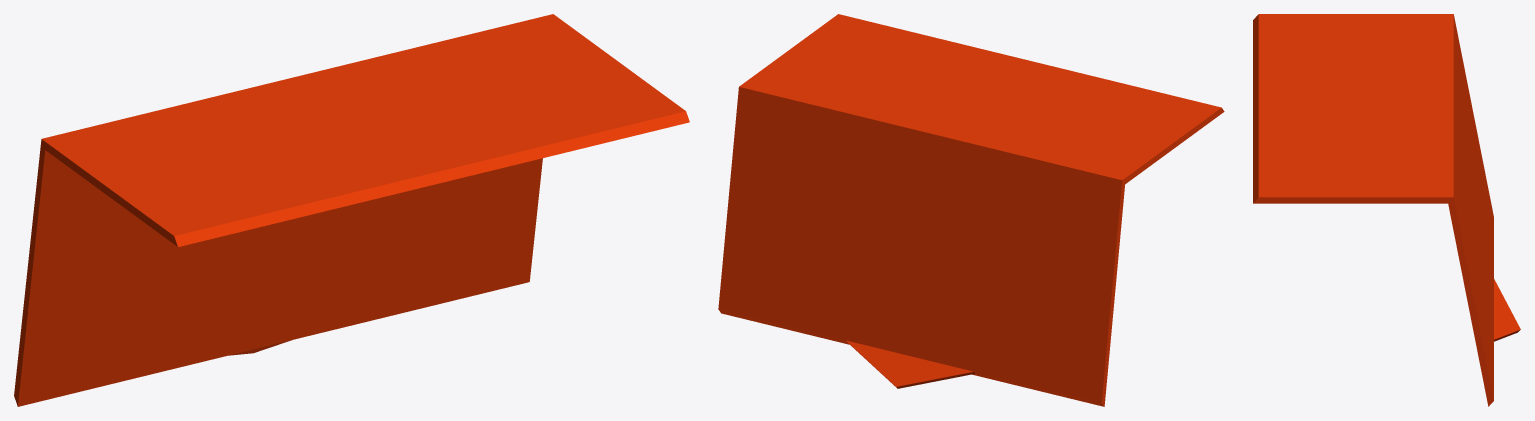
File: Cap.fbx
3 views of the same model, side by side, from view 1: azimuth 30°, elevation 25°; view 2: azimuth 150°, elevation 25°; view 3: azimuth 270°, elevation 25° (orthographic). The views are drawn at different scales.
Visible parts, largest first — view 1: Body.002; view 2: Body.002; view 3: Body.002.
Boxes of the visible parts, <box> form: Body.002: <box>14,14,689,406</box>; Body.002: <box>718,14,1224,406</box>; Body.002: <box>1253,14,1520,406</box>.
Size of the model in its own units: 0.3568 by 0.2057 by 0.2202.
